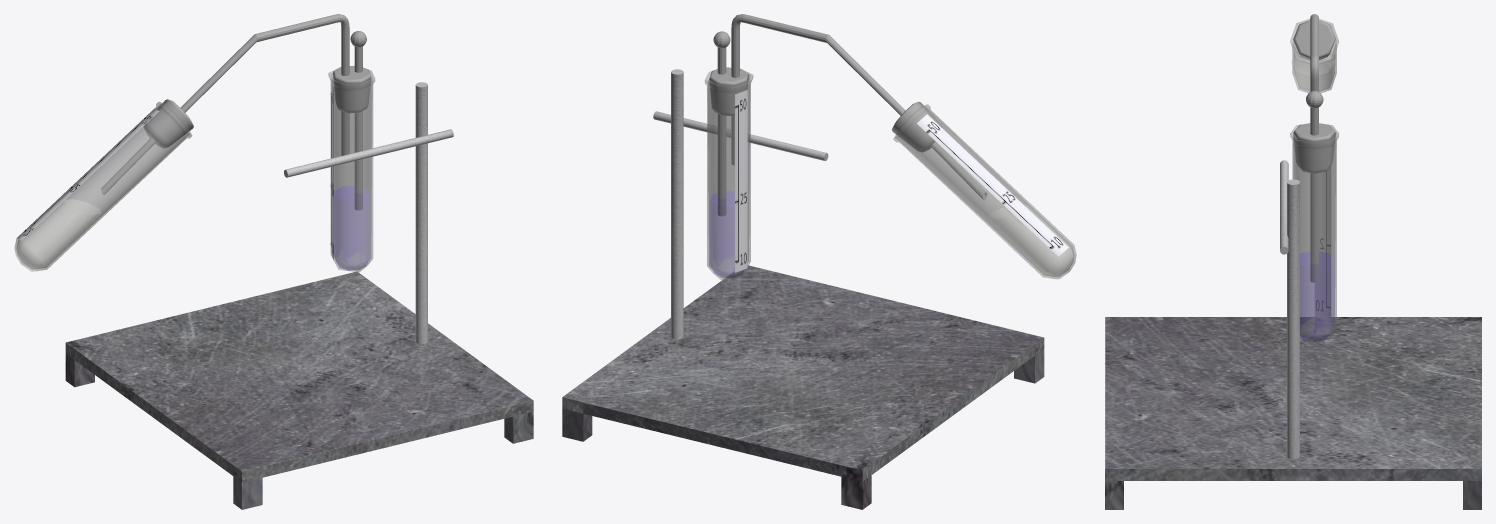
The model's file is Carbonates_and_Metal_Hydrogencarbonates.fbx.
The picture shows the model from 3 angles, left to right: view 1: azimuth 30°, elevation 25°; view 2: azimuth 150°, elevation 25°; view 3: azimuth 270°, elevation 25°; orthographic projection. The views are drawn at different scales.
Parts seen in each view (by area): view 1: pCube3, test_tube8, test_tube6, pCylinder12, pasted__pSphere21, pCylinder18, pCylinder14, pCylinder13, pCylinder17, pCylinder11, pSphere17; view 2: pCube3, test_tube8, test_tube6, pCylinder12, pasted__pSphere21, pCylinder18, pCylinder14, pSphere17, pCylinder11, pCylinder13, pCylinder17; view 3: pCube3, test_tube6, pCylinder12, pCylinder14, pCylinder11, test_tube8, pSphere17, pCylinder17, pCylinder18, pCylinder13, pasted__pSphere21.
Boxes of the visible parts, x1,y1,x2,y2 form: pCube3: (65, 271, 533, 509); test_tube8: (14, 101, 192, 271); test_tube6: (328, 67, 375, 272); pCylinder12: (415, 82, 427, 344); pasted__pSphere21: (101, 14, 349, 194); pCylinder18: (18, 199, 101, 268); pCylinder14: (334, 186, 369, 270); pCylinder13: (284, 129, 453, 177); pCylinder17: (143, 99, 193, 148); pCylinder11: (332, 66, 371, 113); pSphere17: (350, 31, 366, 210); pCube3: (562, 265, 1044, 509); test_tube8: (893, 104, 1076, 279); test_tube6: (704, 68, 753, 279); pCylinder12: (671, 69, 683, 339); pasted__pSphere21: (731, 14, 986, 200); pCylinder18: (988, 208, 1072, 275); pCylinder14: (710, 191, 740, 277); pSphere17: (713, 31, 730, 215); pCylinder11: (709, 67, 748, 116); pCylinder13: (653, 111, 828, 160); pCylinder17: (892, 102, 942, 152); pCube3: (1105, 317, 1481, 509); test_tube6: (1290, 124, 1338, 344); pCylinder12: (1287, 179, 1299, 459); pCylinder14: (1300, 252, 1334, 341); pCylinder11: (1293, 123, 1335, 173); test_tube8: (1290, 19, 1338, 92); pSphere17: (1306, 90, 1323, 282); pCylinder17: (1293, 20, 1335, 60); pCylinder18: (1291, 52, 1334, 90); pCylinder13: (1280, 160, 1288, 254); pasted__pSphere21: (1310, 14, 1318, 91).
Bounding box in the file's own units: 60.7 × 51.8 × 44.01.
Materials: 7 (3 with a texture image).
